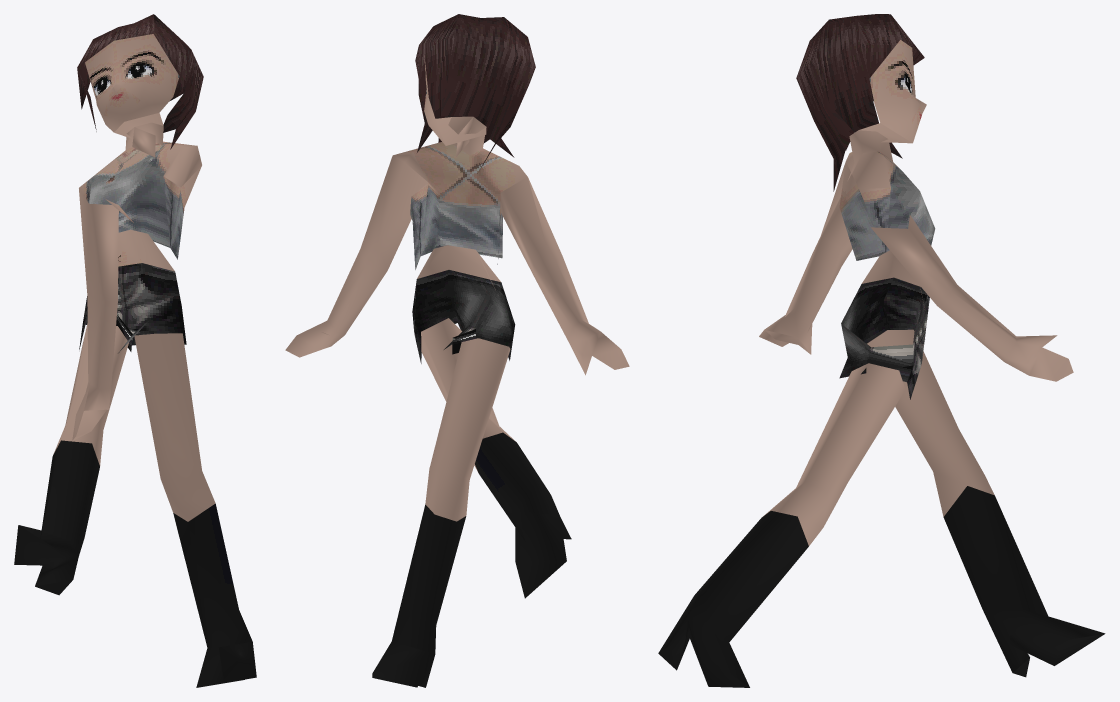
Rendered from ps2_save-icons_ridgeracerv-aifukami.glb.
The picture shows the model from 3 angles, left to right: view 1: azimuth 30°, elevation 25°; view 2: azimuth 150°, elevation 25°; view 3: azimuth 270°, elevation 25°; orthographic projection. The views are drawn at different scales.
Visible parts, largest first — view 1: icon1.ico; view 2: icon1.ico; view 3: icon1.ico.
Part boxes in pixels (bbox=[...]): icon1.ico: bbox=[14, 14, 256, 687]; icon1.ico: bbox=[285, 14, 629, 687]; icon1.ico: bbox=[658, 14, 1105, 687].
Size of the model in its own units: 1.73 by 4.99 by 3.04.
Materials: 1 (1 with a texture image).
